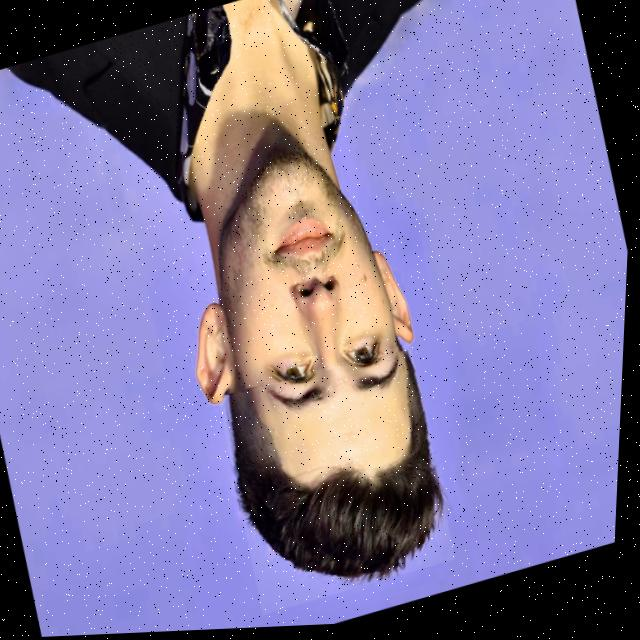hair: (231, 355, 447, 585)
